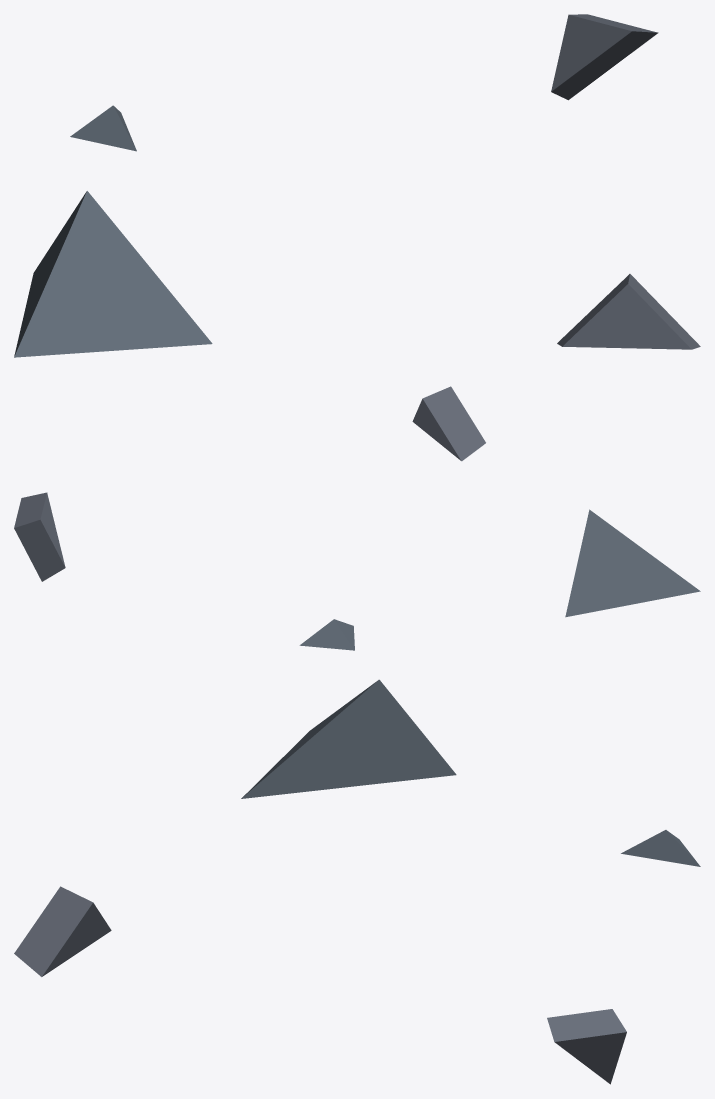
Rendered from Rocks_Sharp_s_04.fbx.
The picture shows the model from 3 angles, top to bottom: view 1: azimuth 30°, elevation 25°; view 2: azimuth 150°, elevation 25°; view 3: azimuth 270°, elevation 25°; orthographic projection. The views are drawn at different scales.
Visible parts, largest first — view 1: Rocks_Sharp_s_04; view 2: Rocks_Sharp_s_04; view 3: Rocks_Sharp_s_04.
Boxes of the visible parts, x1,y1,x2,y2 form: Rocks_Sharp_s_04: (14, 14, 700, 357); Rocks_Sharp_s_04: (14, 386, 700, 650); Rocks_Sharp_s_04: (14, 679, 700, 1084).
Bounding box in the file's own units: 116 × 21.73 × 98.48.
